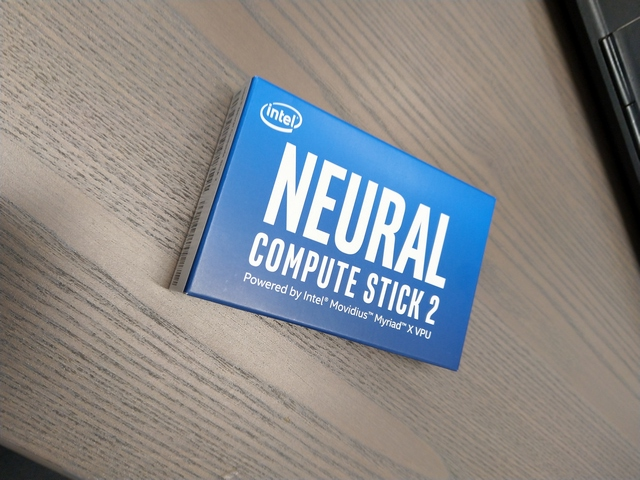box: (167, 75, 497, 373)
